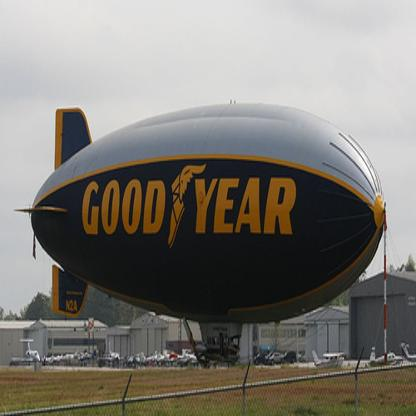Airship: (17, 98, 384, 331)
